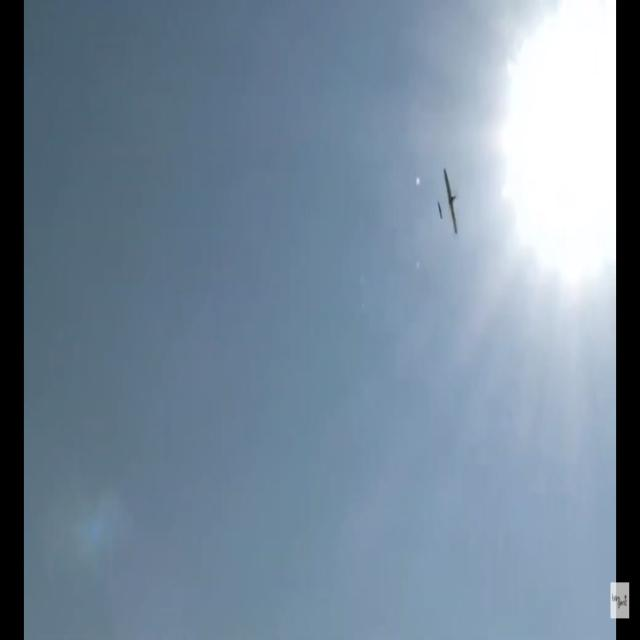iha: (436, 187, 461, 201)
